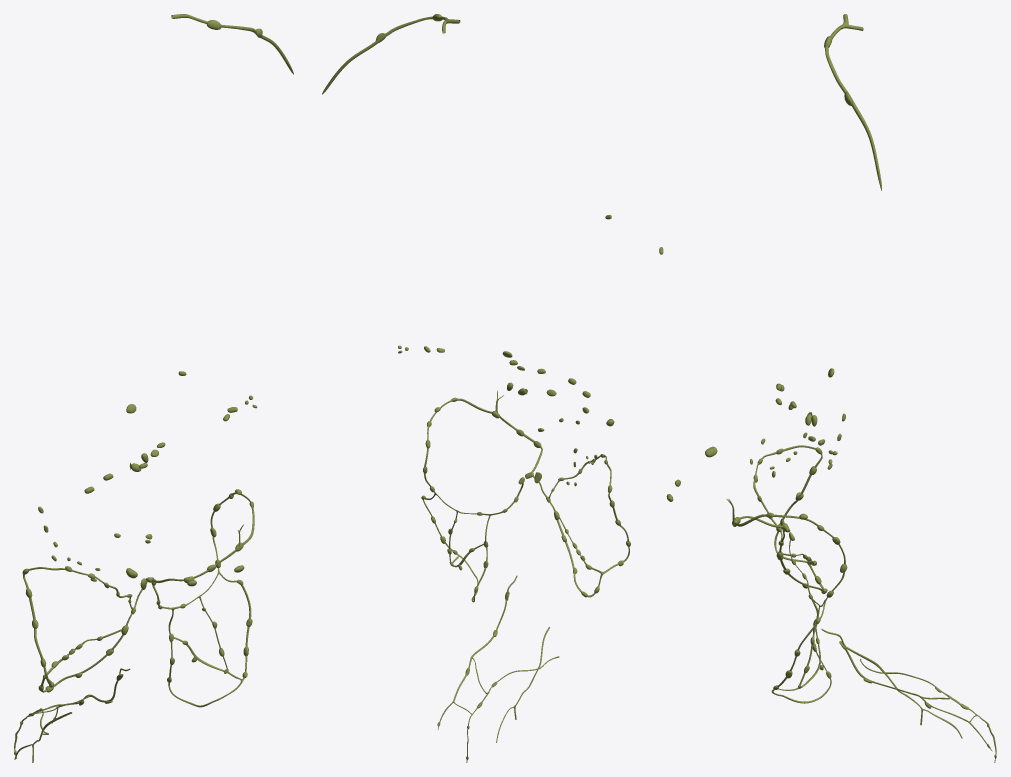
Rendered from lymphatic-02.glb.
3 renders of one model, left to right at view 1: azimuth 30°, elevation 25°; view 2: azimuth 150°, elevation 25°; view 3: azimuth 270°, elevation 25°, orthographic. The views are drawn at different scales.
Visible parts, largest first — view 1: ATLAS_Lym_M2051, ATLAS_Lym_M2054, ATLAS_Lym_M2058; view 2: ATLAS_Lym_M2051, ATLAS_Lym_M2058, ATLAS_Lym_M2061; view 3: ATLAS_Lym_M2051, ATLAS_Lym_M2058, ATLAS_Lym_M2061, ATLAS_Lym_M2054.
Boxes of the visible parts, box(x1,y1,x2,y2) form: ATLAS_Lym_M2051: box(23, 492, 254, 707); ATLAS_Lym_M2054: box(22, 489, 253, 687); ATLAS_Lym_M2058: box(14, 668, 130, 758); ATLAS_Lym_M2051: box(423, 390, 629, 602); ATLAS_Lym_M2058: box(437, 575, 559, 762); ATLAS_Lym_M2061: box(322, 16, 460, 94); ATLAS_Lym_M2051: box(726, 445, 845, 703); ATLAS_Lym_M2058: box(821, 629, 996, 762); ATLAS_Lym_M2061: box(825, 14, 881, 190); ATLAS_Lym_M2054: box(766, 447, 847, 689).
Size of the model in its own units: 0.826 by 2.02 by 0.7822.
